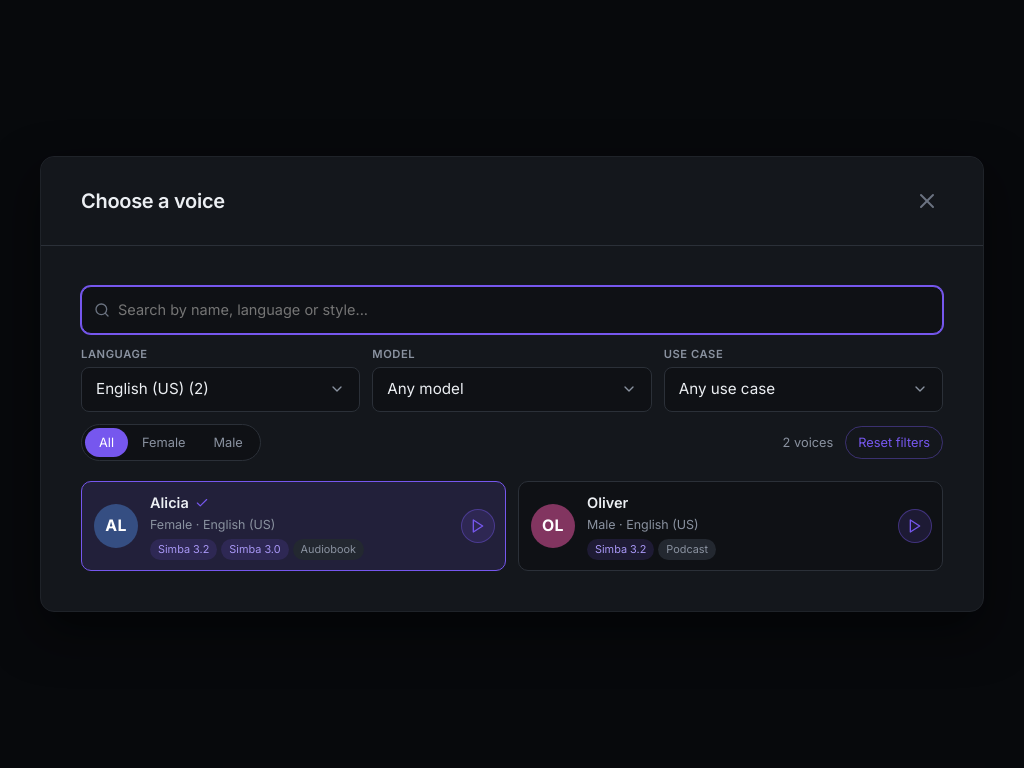
Test: VoicePickerModal › filters by gender
Step 1. Click the button "Female" → (164, 442), box [128,428,200,457]
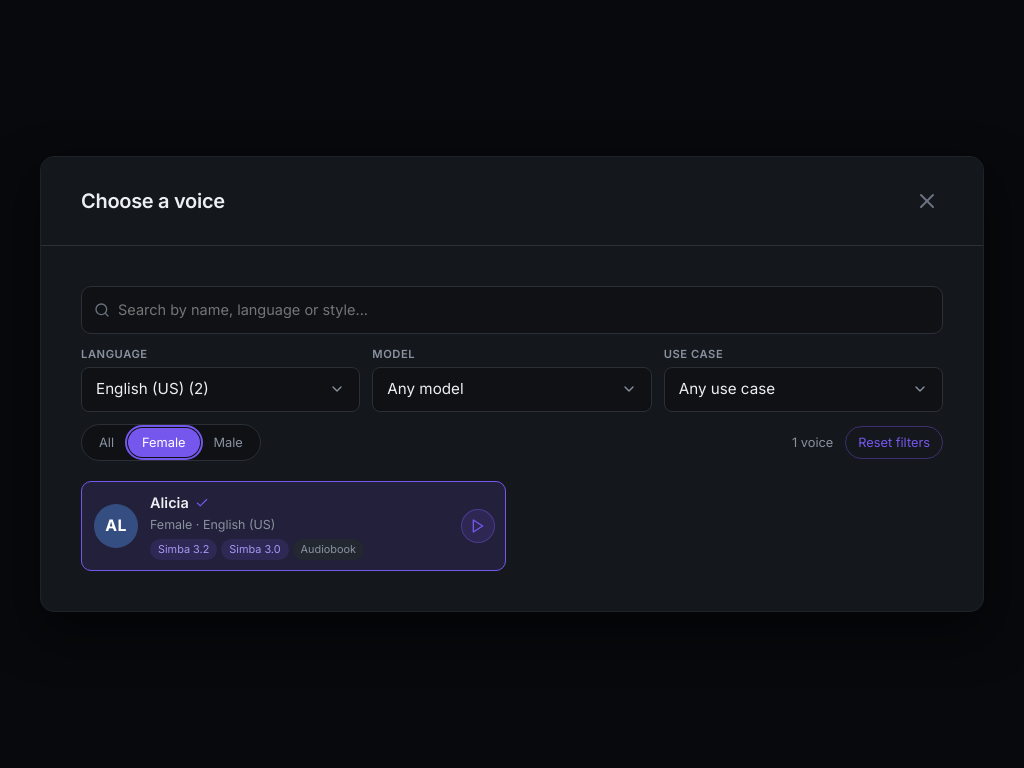
Expected: the button with aria-label "Use Alicia" is shown, [82,482,453,570]
Expected: the message reads "1 voice", [792,433,833,452]
